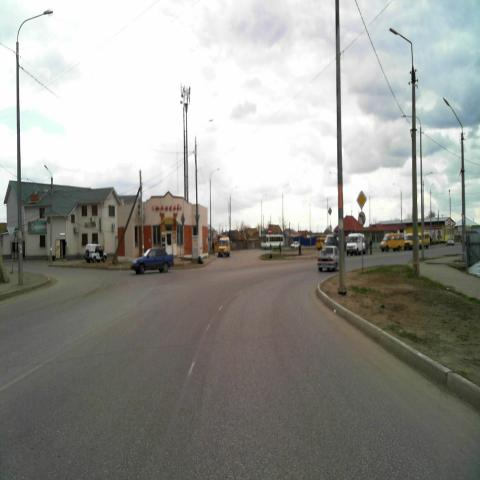3_18_2: (358, 212, 366, 226)
